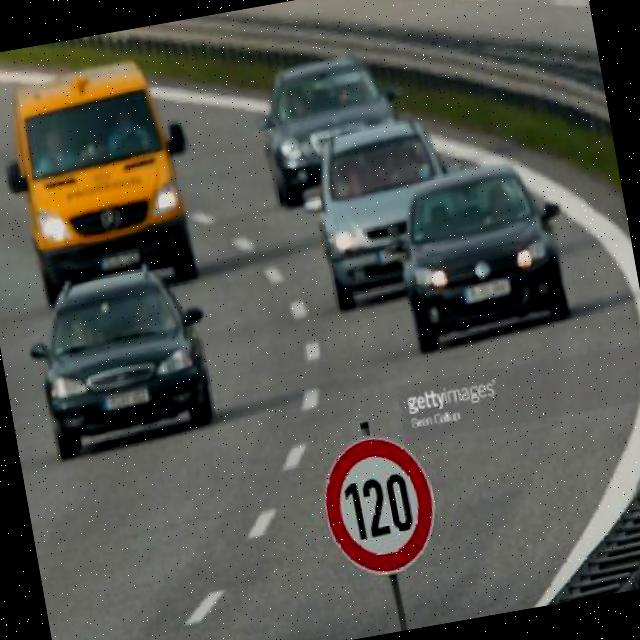Ograniczenie predkosci do 120: (314, 430, 442, 588)
